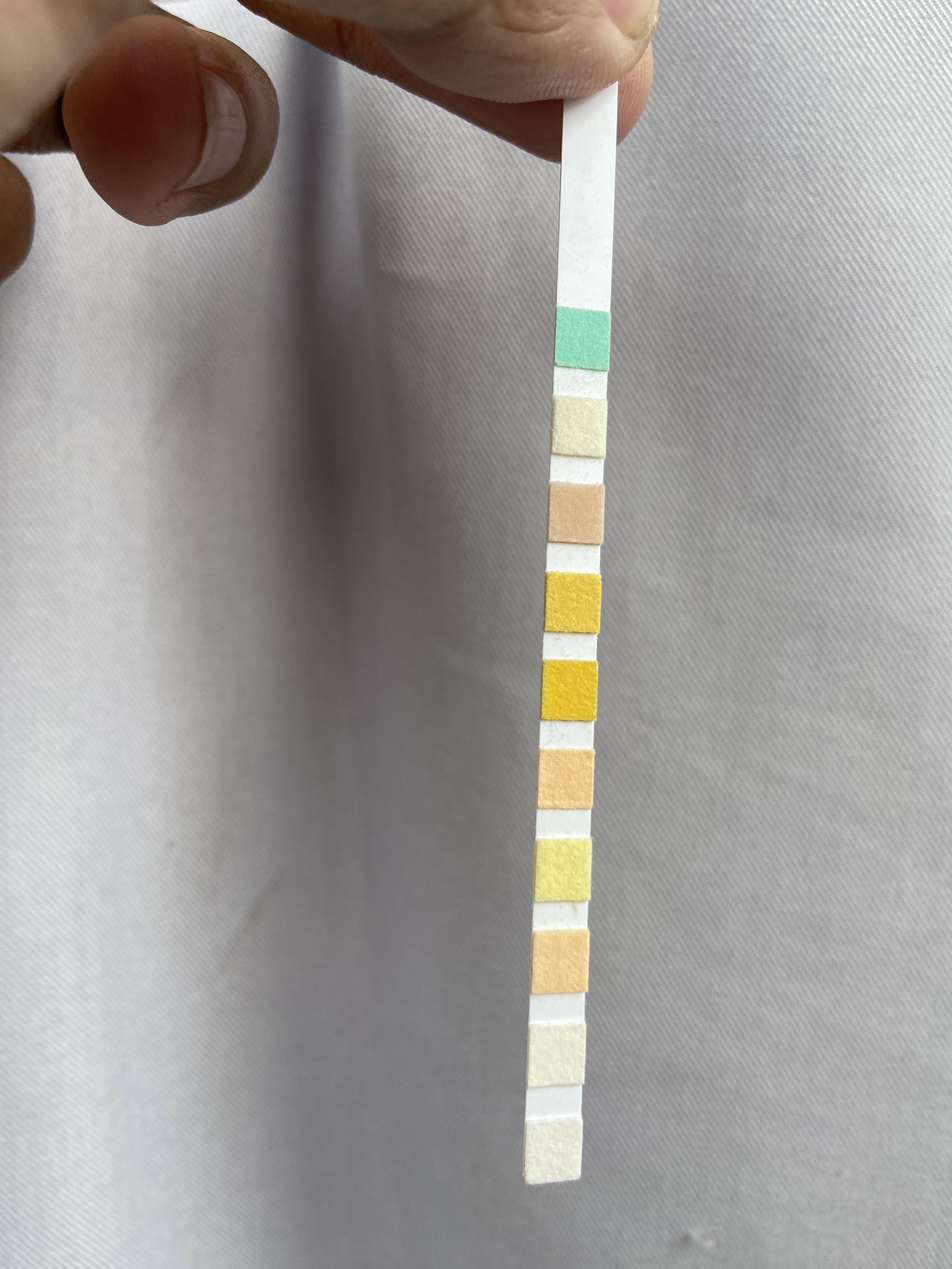Bilirubin: (554, 400, 606, 454)
Blood: (543, 663, 596, 718)
Glucose: (557, 312, 608, 366)
Ketone: (549, 486, 604, 542)
Leukocytes: (527, 1123, 581, 1179)
Nitrite: (531, 1025, 584, 1082)
Protein: (535, 839, 590, 900)
SpGravity: (546, 575, 600, 629)
Urobilinogen: (534, 933, 588, 992)
pH: (540, 750, 592, 807)
strip: (524, 112, 618, 1184)
